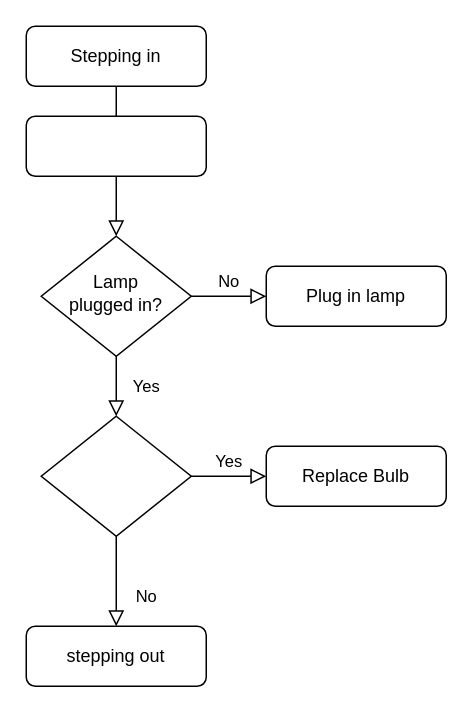
The diagram is 473 pixels wide and 713 high, and some of its shapes have lost their labels. Here are the shapes that lost their labels. From the top down, the centre of each, then its label:
At [115,145]: "Greeting".
At [115,475]: "Bulb burned out?".
